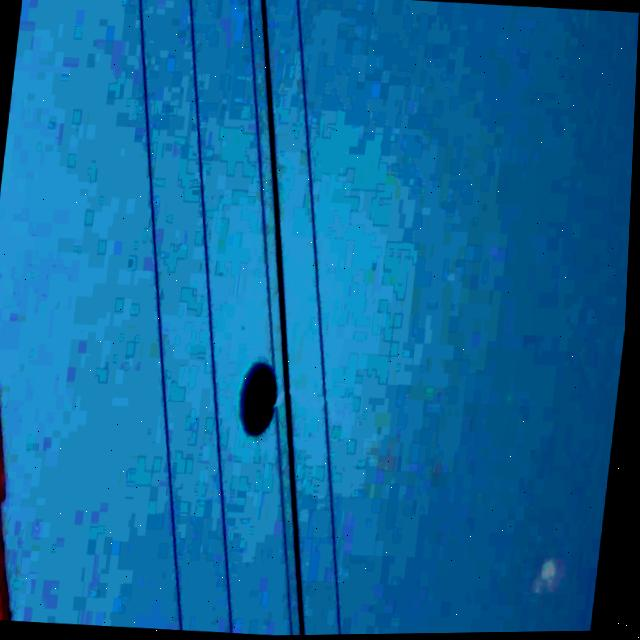obstruction: (240, 363, 290, 437)
wires: (296, 0, 347, 636), (189, 0, 239, 634), (138, 0, 188, 631), (261, 0, 310, 636), (247, 0, 278, 371), (280, 412, 298, 636)
